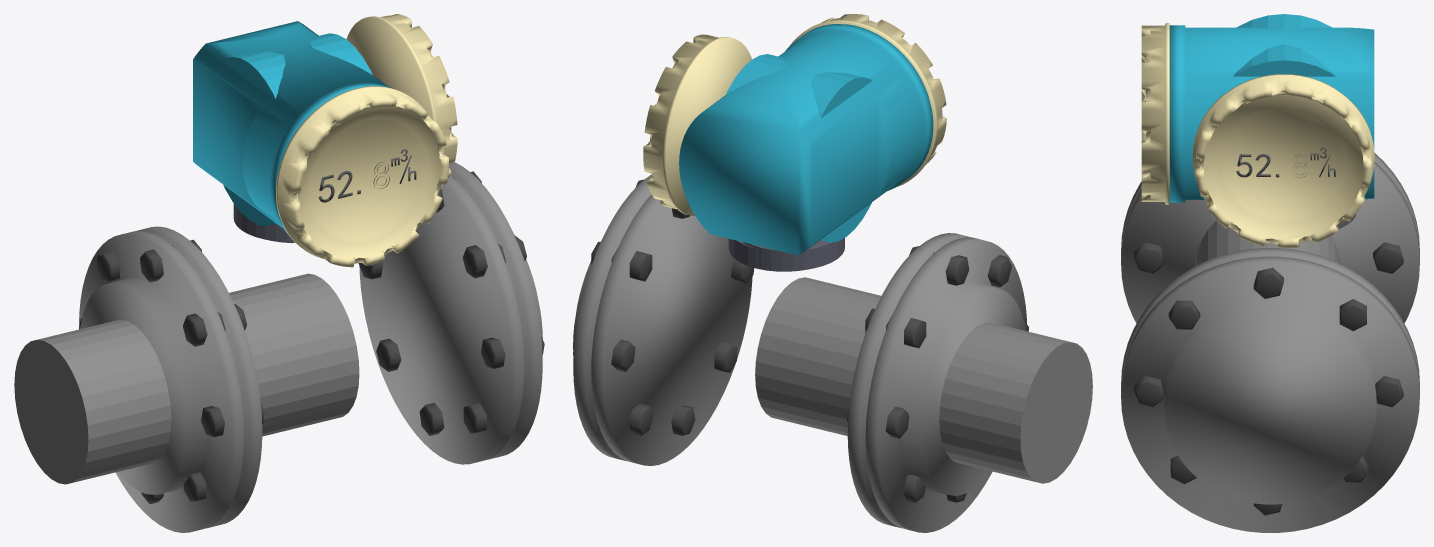
The model's file is bag-filter.glb.
3 renders of one model, left to right at view 1: azimuth 30°, elevation 25°; view 2: azimuth 150°, elevation 25°; view 3: azimuth 270°, elevation 25°, orthographic. The views are drawn at different scales.
Visible parts, largest first — view 1: Obj3d66-1060089-4590-318, Obj3d66-1060089-4601-125, Obj3d66-1060089-4600-755, Obj3d66-1060089-4595-99, Obj3d66-1060089-4599-297, Obj3d66-1060089-4592-847, Obj3d66-1060089-4597-386, Obj3d66-1060089-4598-234, Obj3d66-1060089-4596-143, Obj3d66-1060089-4588-408, Obj3d66-1060089-4594-766; view 2: Obj3d66-1060089-4599-297, Obj3d66-1060089-4590-318, Obj3d66-1060089-4601-125, Obj3d66-1060089-4600-755, Obj3d66-1060089-4592-847, Obj3d66-1060089-4597-386, Obj3d66-1060089-4596-143, Obj3d66-1060089-4598-234, Obj3d66-1060089-4595-99, Obj3d66-1060089-4588-408, Obj3d66-1060089-4591-211; view 3: Obj3d66-1060089-4601-125, Obj3d66-1060089-4592-847, Obj3d66-1060089-4599-297, Obj3d66-1060089-4600-755, Obj3d66-1060089-4595-99, Obj3d66-1060089-4597-386, Obj3d66-1060089-4596-143, Obj3d66-1060089-4590-318, Obj3d66-1060089-4598-234, Obj3d66-1060089-4593-803.
Boxes of the visible parts, x1,y1,x2,y2 form: Obj3d66-1060089-4590-318: (14, 273, 359, 484); Obj3d66-1060089-4601-125: (359, 162, 542, 464); Obj3d66-1060089-4600-755: (79, 226, 262, 532); Obj3d66-1060089-4595-99: (276, 86, 448, 267); Obj3d66-1060089-4599-297: (193, 21, 392, 233); Obj3d66-1060089-4592-847: (346, 14, 457, 185); Obj3d66-1060089-4597-386: (358, 171, 544, 435); Obj3d66-1060089-4598-234: (79, 239, 264, 504); Obj3d66-1060089-4596-143: (223, 33, 372, 225); Obj3d66-1060089-4588-408: (233, 203, 293, 241); Obj3d66-1060089-4594-766: (318, 149, 416, 202); Obj3d66-1060089-4599-297: (679, 24, 933, 255); Obj3d66-1060089-4590-318: (755, 277, 1092, 483); Obj3d66-1060089-4601-125: (573, 175, 752, 465); Obj3d66-1060089-4600-755: (847, 233, 1026, 532); Obj3d66-1060089-4592-847: (643, 34, 752, 215); Obj3d66-1060089-4597-386: (573, 179, 754, 435); Obj3d66-1060089-4596-143: (725, 54, 872, 242); Obj3d66-1060089-4598-234: (847, 246, 1028, 502); Obj3d66-1060089-4595-99: (790, 14, 946, 187); Obj3d66-1060089-4588-408: (742, 238, 844, 270); Obj3d66-1060089-4591-211: (728, 239, 809, 271); Obj3d66-1060089-4601-125: (1121, 248, 1419, 532); Obj3d66-1060089-4592-847: (1192, 74, 1374, 248); Obj3d66-1060089-4599-297: (1169, 25, 1374, 202); Obj3d66-1060089-4600-755: (1121, 153, 1419, 323); Obj3d66-1060089-4595-99: (1141, 23, 1169, 204); Obj3d66-1060089-4597-386: (1134, 267, 1403, 515); Obj3d66-1060089-4596-143: (1233, 14, 1335, 76); Obj3d66-1060089-4590-318: (1195, 220, 1339, 265); Obj3d66-1060089-4598-234: (1134, 242, 1403, 273); Obj3d66-1060089-4593-803: (1236, 147, 1335, 177).
Size of the model in its own units: 4518 by 4283 by 2731.
